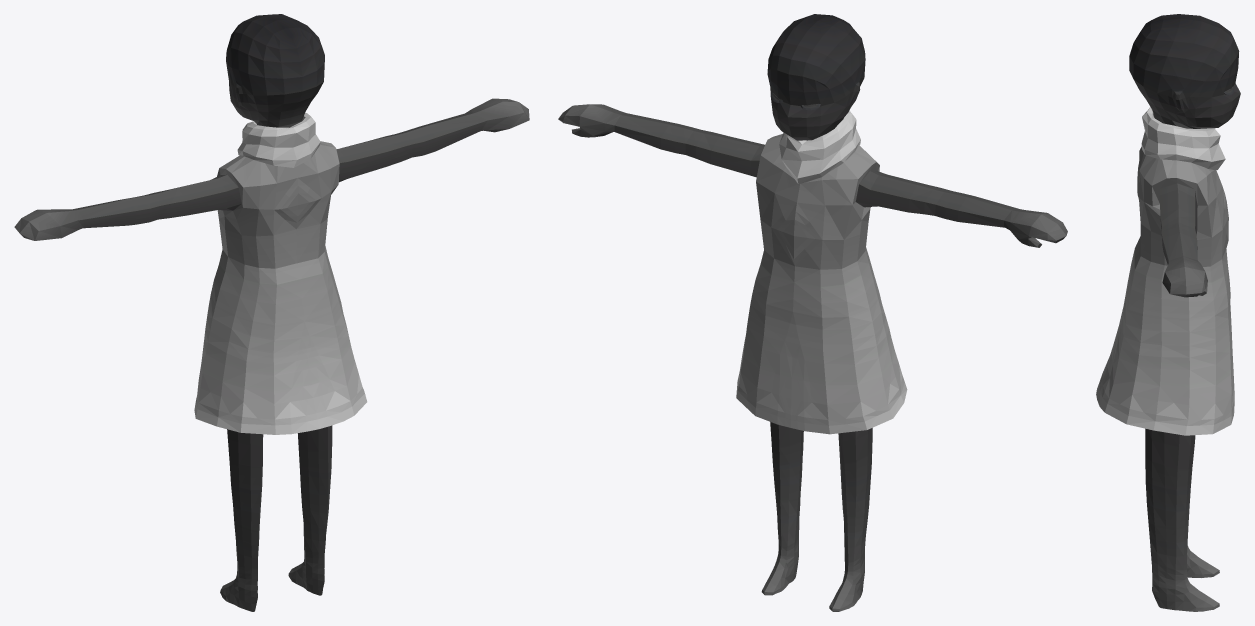
File: CharSkyKid_Body_ClassicDress.glb
3 views of the same model, side by side, from view 1: azimuth 30°, elevation 25°; view 2: azimuth 150°, elevation 25°; view 3: azimuth 270°, elevation 25° (orthographic).
Parts seen in each view (by area): view 1: CharSkyKid_Body_ClassicDress; view 2: CharSkyKid_Body_ClassicDress; view 3: CharSkyKid_Body_ClassicDress.
Boxes of the visible parts, x1=… form: CharSkyKid_Body_ClassicDress: x1=14, y1=14, x2=529, y2=611; CharSkyKid_Body_ClassicDress: x1=558, y1=14, x2=1067, y2=611; CharSkyKid_Body_ClassicDress: x1=1096, y1=14, x2=1240, y2=611.
Bounding box in the file's own units: 13.83 × 14.94 × 3.42.
1 material, 1 textured.
